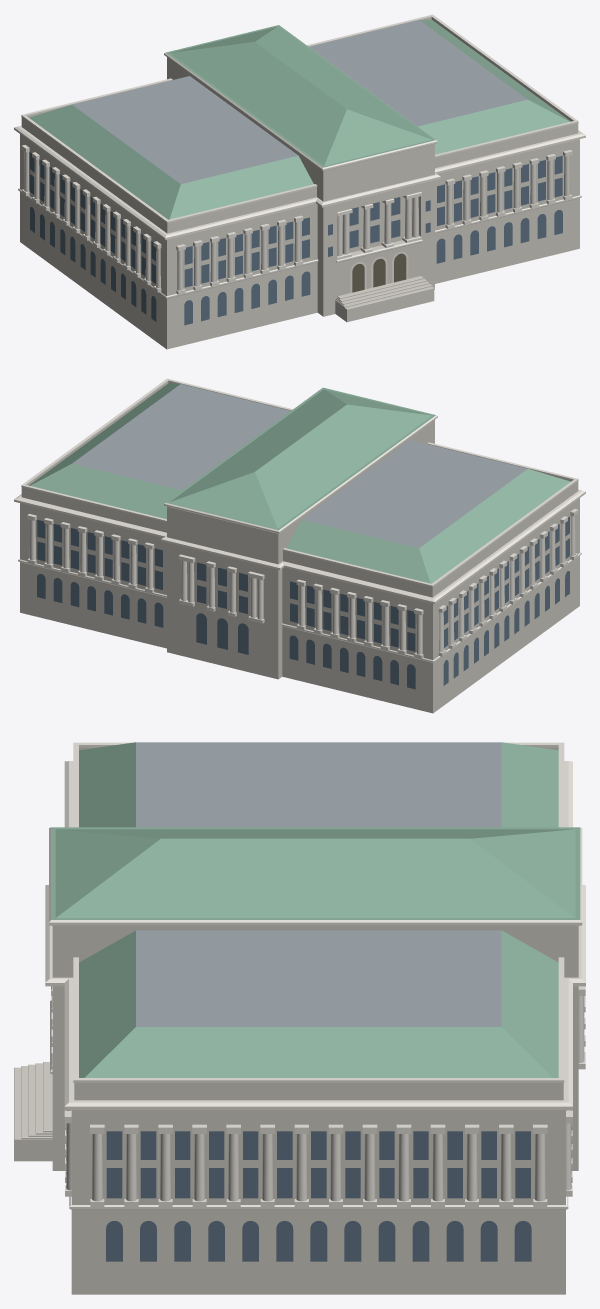
File: cle-city-hall.glb
3 renders of one model, top to bottom at view 1: azimuth 30°, elevation 25°; view 2: azimuth 150°, elevation 25°; view 3: azimuth 270°, elevation 25°, orthographic. The views are drawn at different scales.
Parts seen in each view (by area): view 1: Cleveland City Hall; view 2: Cleveland City Hall; view 3: Cleveland City Hall.
Part boxes in pixels (x1,y1,x2,y2): Cleveland City Hall: (14,14,585,349); Cleveland City Hall: (14,378,585,713); Cleveland City Hall: (14,742,585,1294).
Size of the model in its own units: 102 by 39.4 by 71.3.
